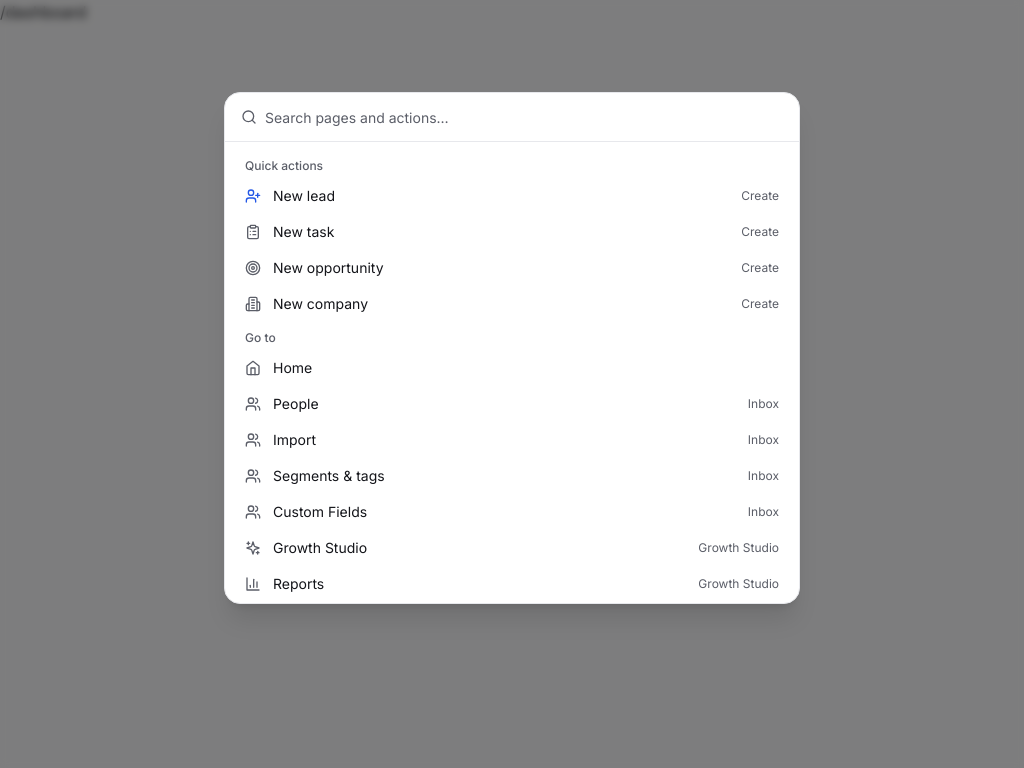
Test: CommandPalette › shows an empty state when nothing matches
The width and height of the screenshot is (1024, 768).
Step 1. Type "zzzznomatchzzz" into the dropdown → (524, 117), box [265, 93, 783, 141]
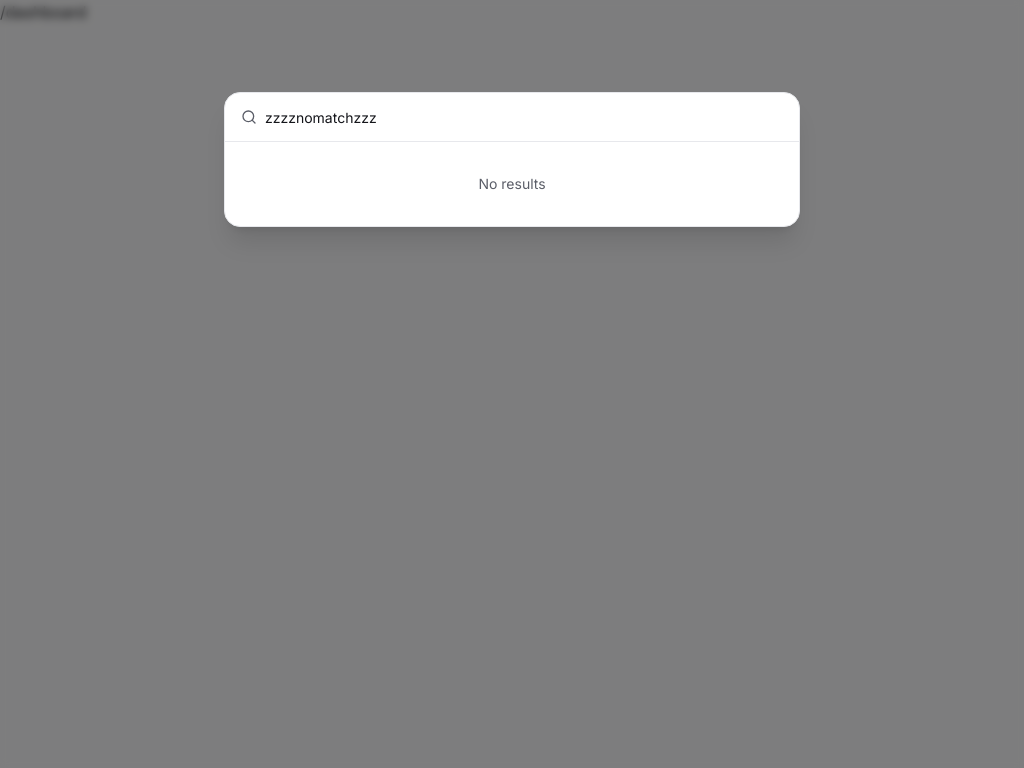
expect the text "No results" is shown: met, box [478, 175, 546, 192]
